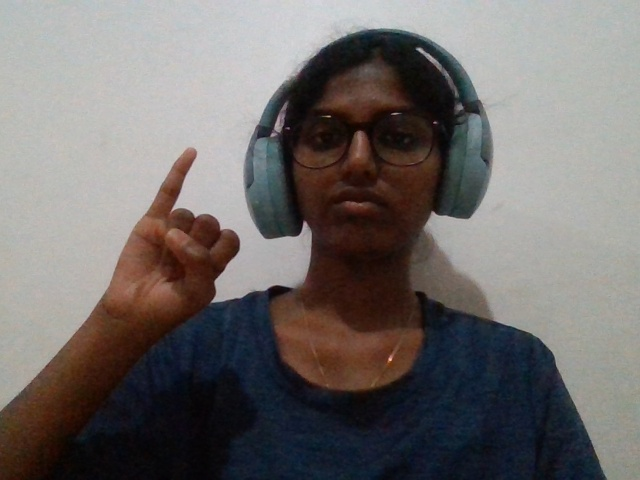I: (97, 138, 269, 344)
